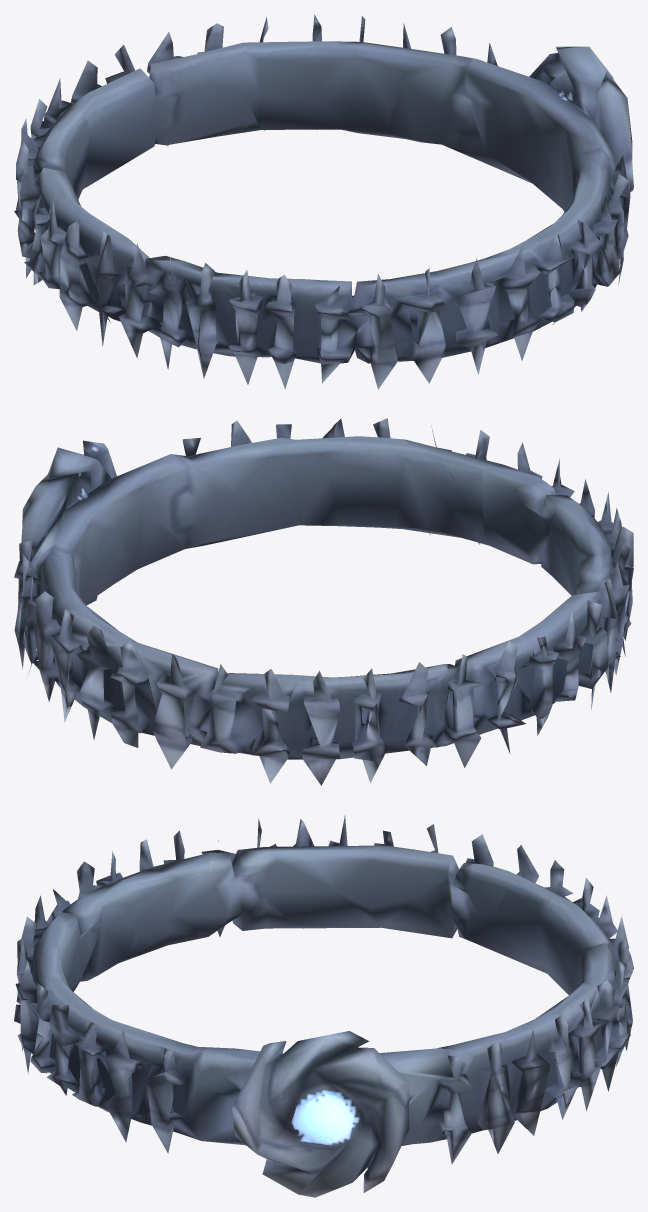
File: uq_belt_blades-DqyWo7kX.glb
3 views of the same model, one above another, from view 1: azimuth 30°, elevation 25°; view 2: azimuth 150°, elevation 25°; view 3: azimuth 270°, elevation 25° (orthographic). The views are drawn at different scales.
Visible parts, largest first — view 1: tripo_node_5ce9eee2-231d-434d-8d62-1dee91c4a34b; view 2: tripo_node_5ce9eee2-231d-434d-8d62-1dee91c4a34b; view 3: tripo_node_5ce9eee2-231d-434d-8d62-1dee91c4a34b.
Part boxes in pixels (x1,y1,x2,y2): tripo_node_5ce9eee2-231d-434d-8d62-1dee91c4a34b: [14, 14, 633, 389]; tripo_node_5ce9eee2-231d-434d-8d62-1dee91c4a34b: [14, 418, 633, 785]; tripo_node_5ce9eee2-231d-434d-8d62-1dee91c4a34b: [14, 815, 633, 1197].
Bounding box in the file's own units: 0.9981 × 0.2886 × 1.
Materials: 1 (1 with a texture image).
